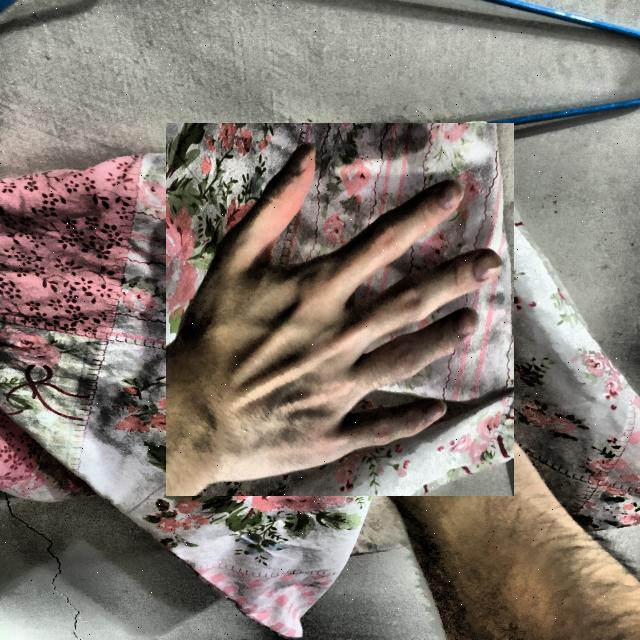not-gloved: (159, 129, 520, 490)
